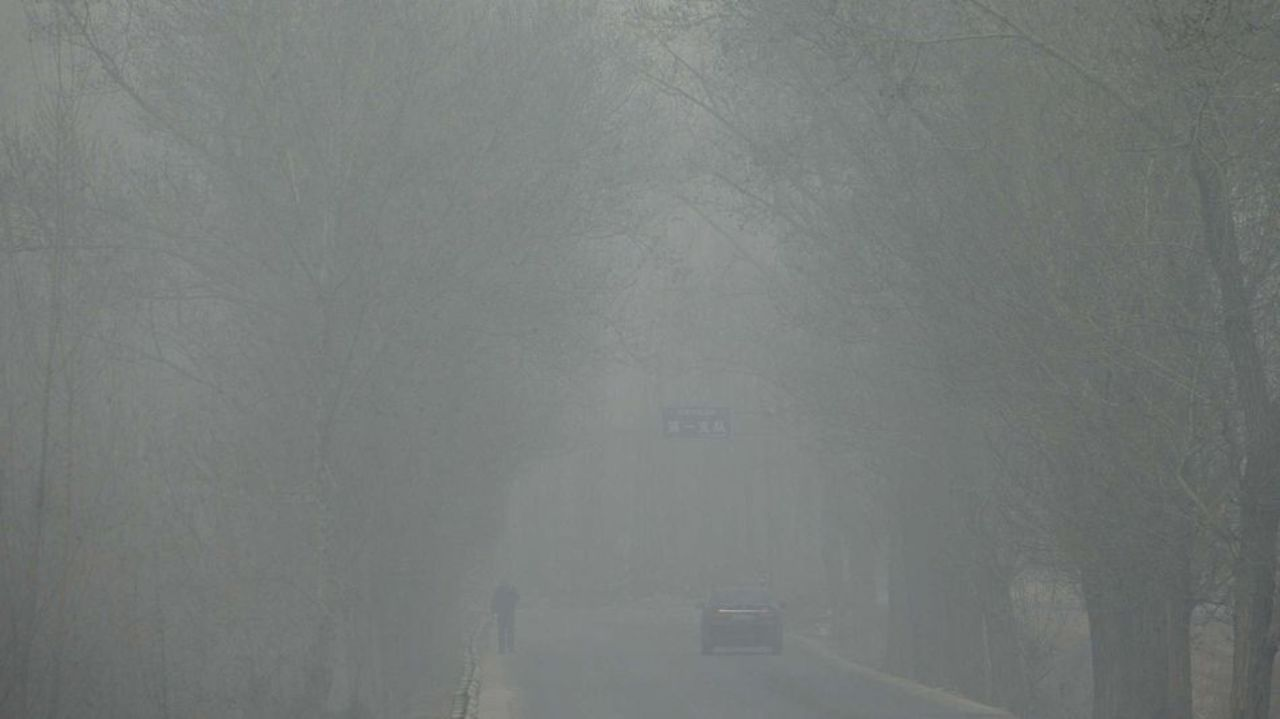car: (697, 588, 785, 651)
person: (487, 578, 518, 655)
